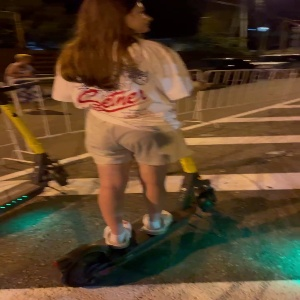human on a scooter: (47, 1, 226, 289)
